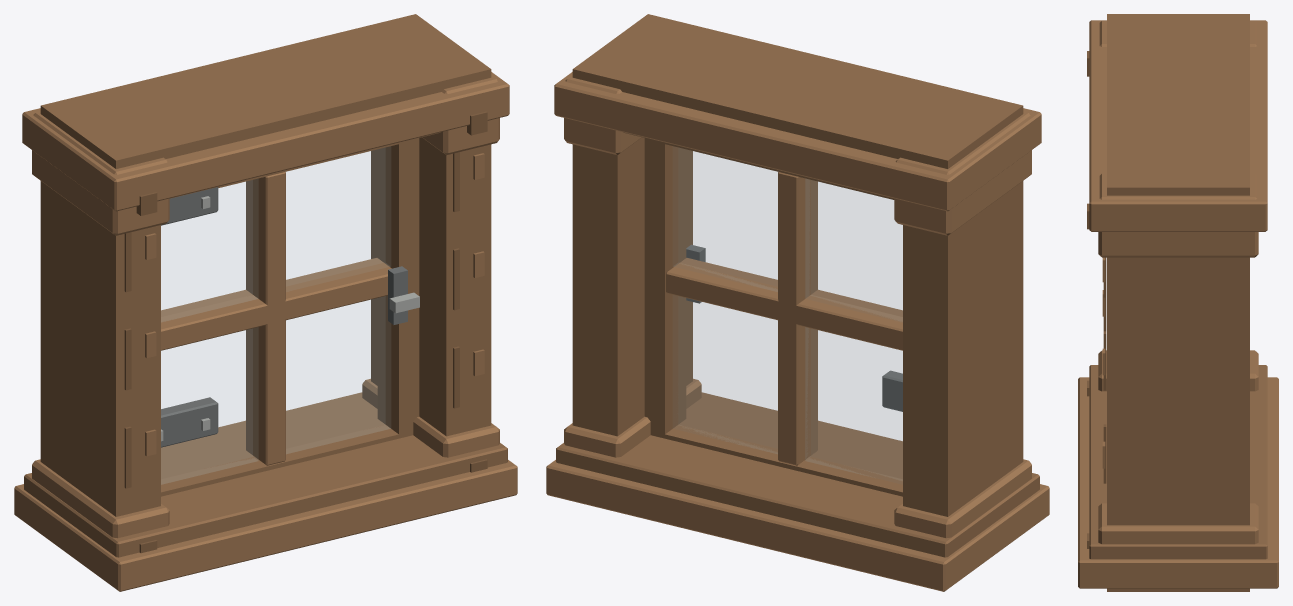
Rendered from spruce_window.gltf.
3 renders of one model, left to right at view 1: azimuth 30°, elevation 25°; view 2: azimuth 150°, elevation 25°; view 3: azimuth 270°, elevation 25°, orthographic. The views are drawn at different scales.
Bounding box in the file's own units: 0.98 × 1 × 0.45.
